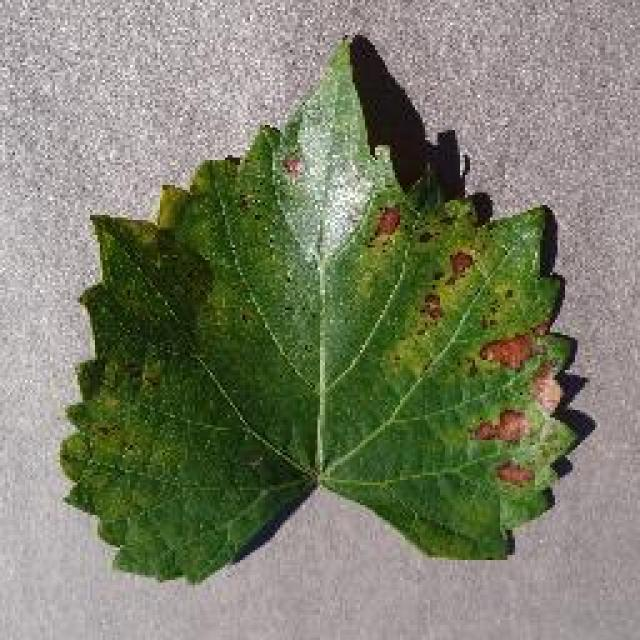Black_Measles: (45, 34, 631, 610)
